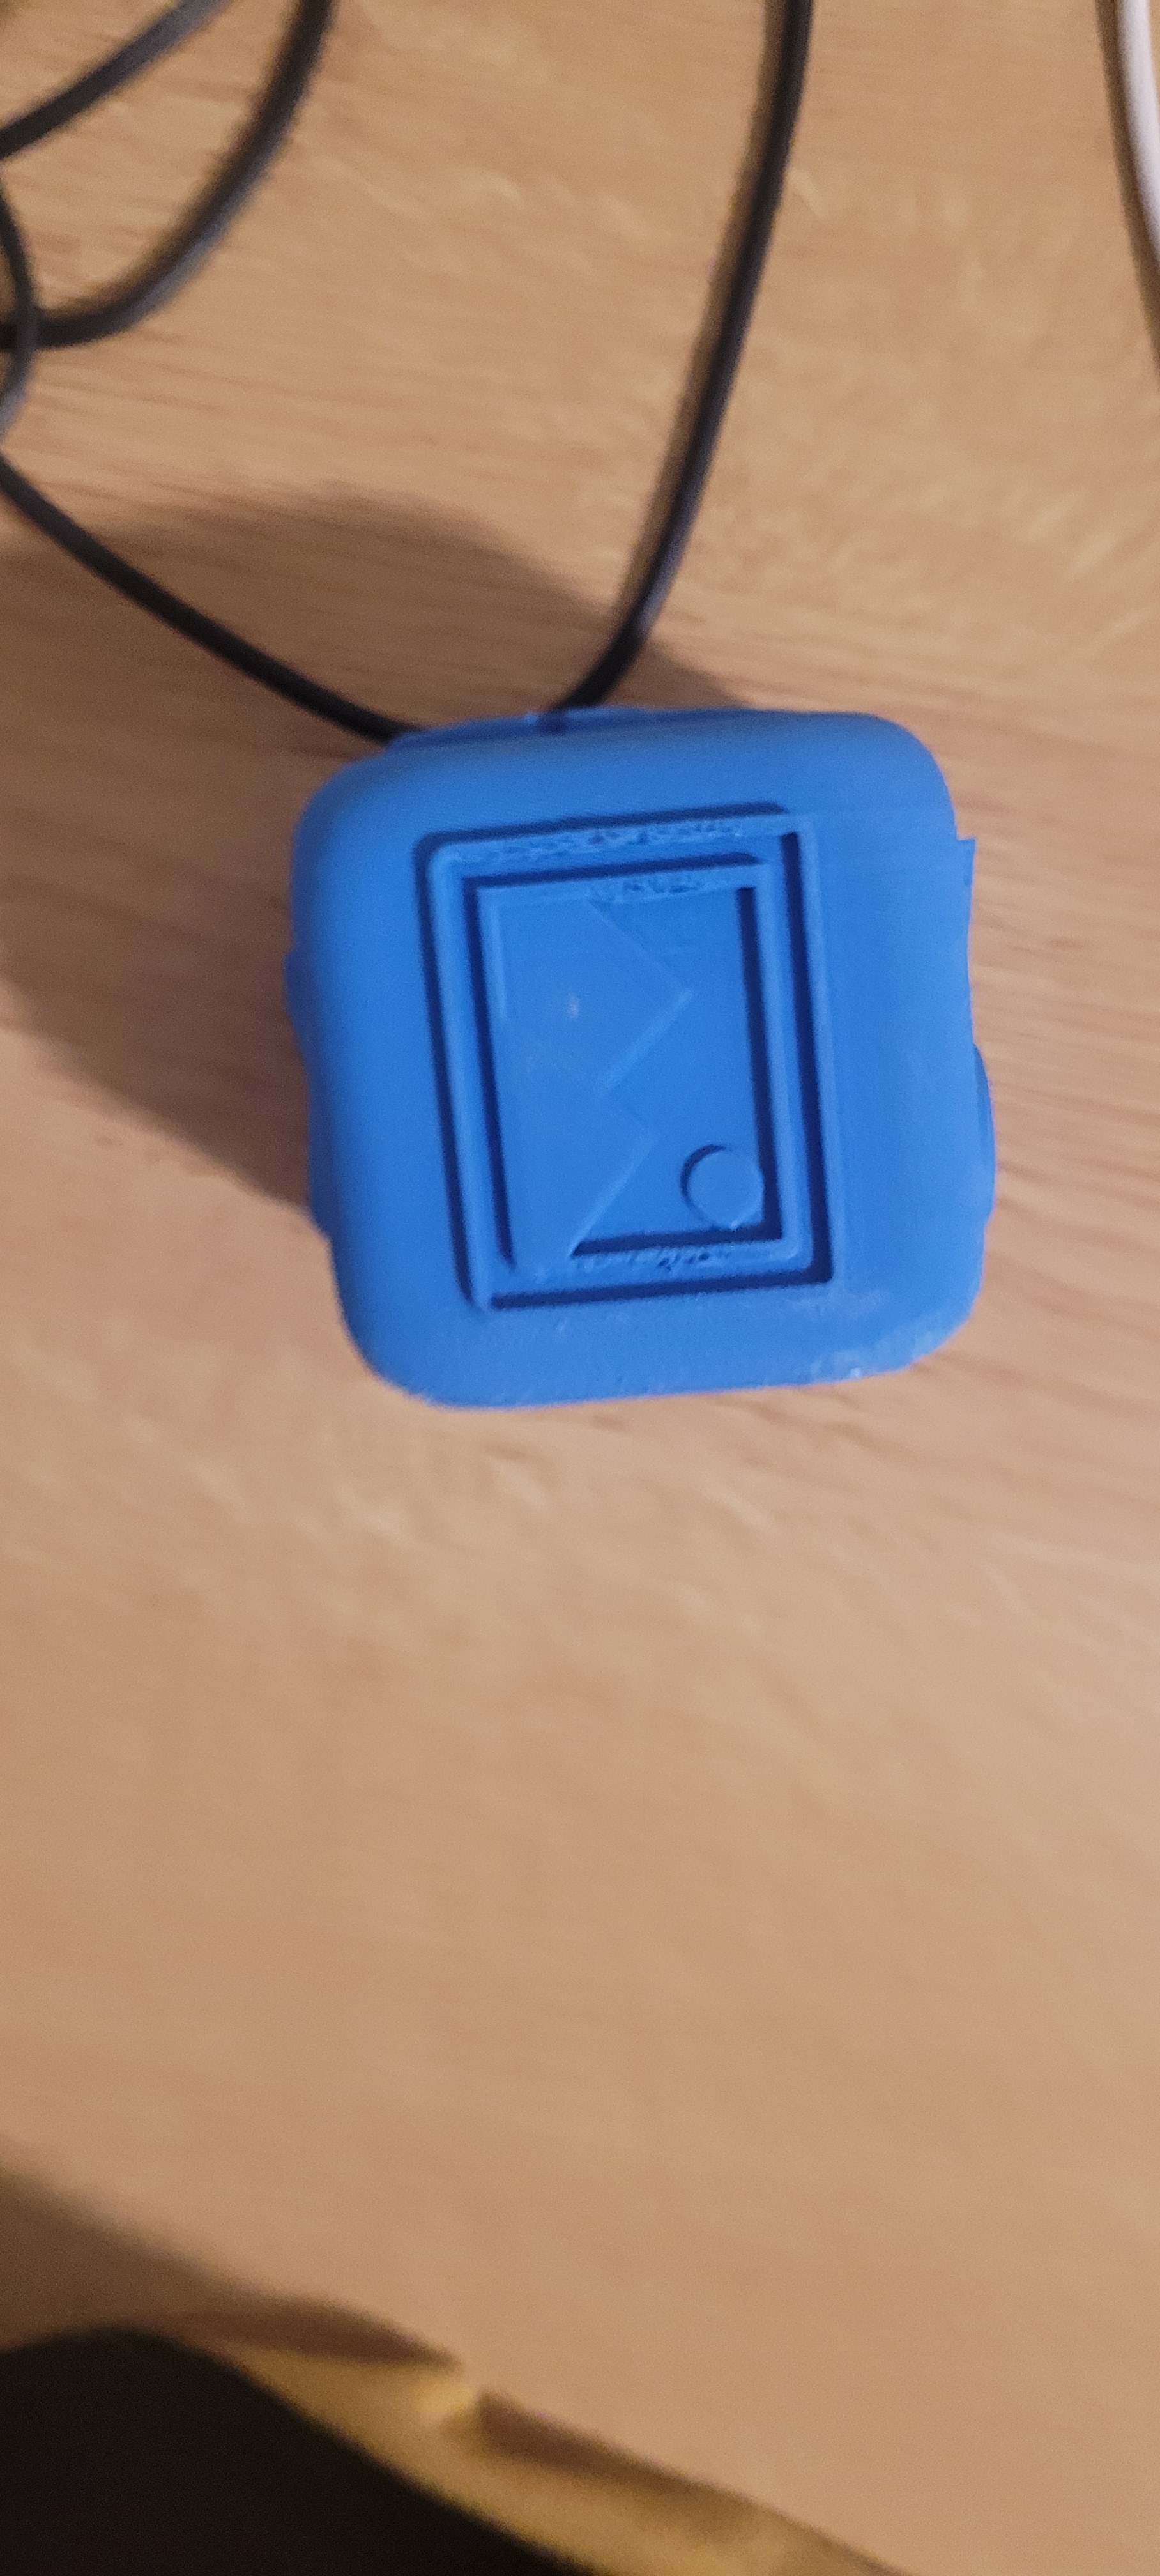Story: (366, 812, 900, 1373)
